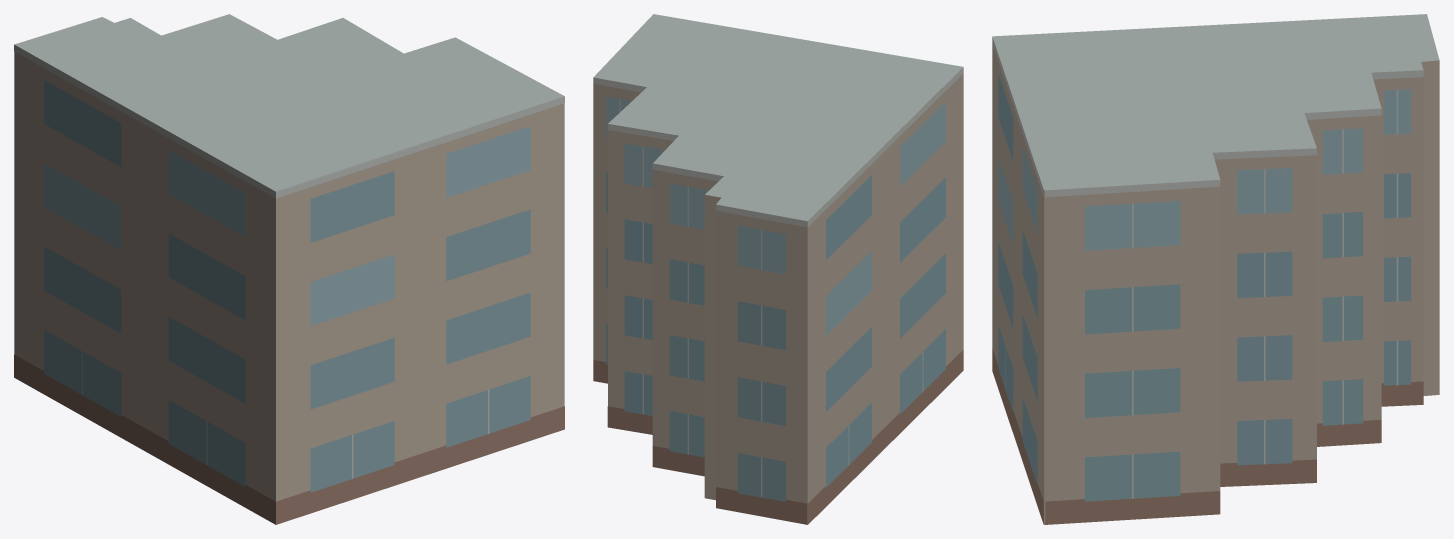
Rendered from survey-upis-32609904.glb.
The picture shows the model from 3 angles, left to right: view 1: azimuth 30°, elevation 25°; view 2: azimuth 150°, elevation 25°; view 3: azimuth 270°, elevation 25°; orthographic projection. The views are drawn at different scales.
Visible parts, largest first — view 1: survey-upis-32609904.tmp; view 2: survey-upis-32609904.tmp; view 3: survey-upis-32609904.tmp.
Part boxes in pixels (<box>): survey-upis-32609904.tmp: <box>14,14,564,524</box>; survey-upis-32609904.tmp: <box>593,14,963,524</box>; survey-upis-32609904.tmp: <box>992,14,1439,524</box>.
Bounding box in the file's own units: 13.47 × 11.9 × 14.43.
